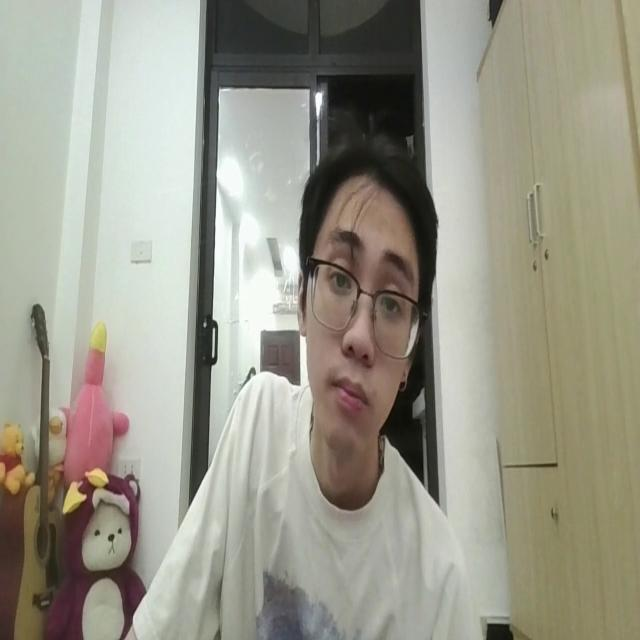student: (105, 130, 492, 640)
